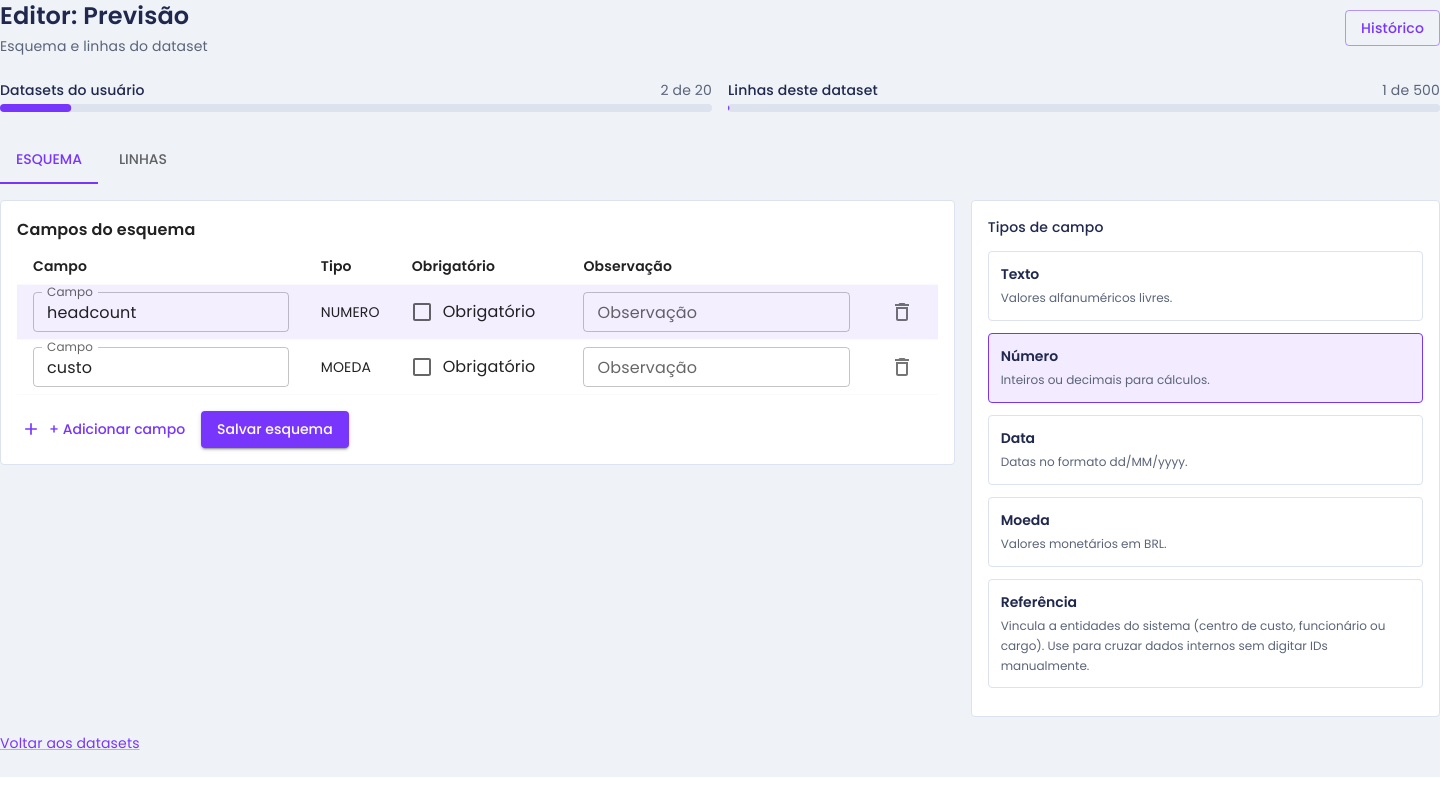
it: DatasetEditorPage › shows confirm dialog on 409 schema conflict
Click the button "Salvar esquema": (275, 429) [201, 411, 349, 448]
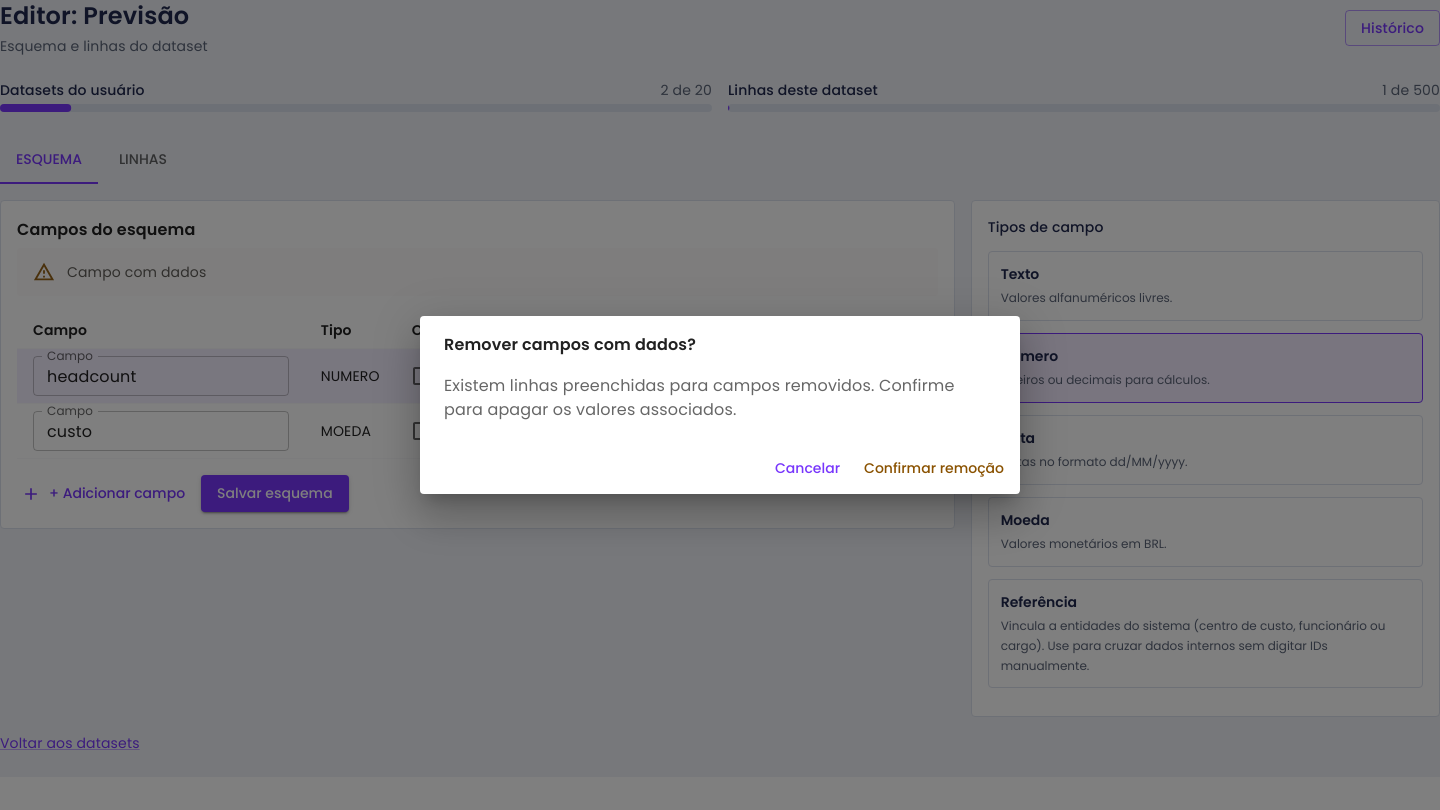
Result: the heading "Remover campos com dados?" is shown at [444, 333, 696, 356]
